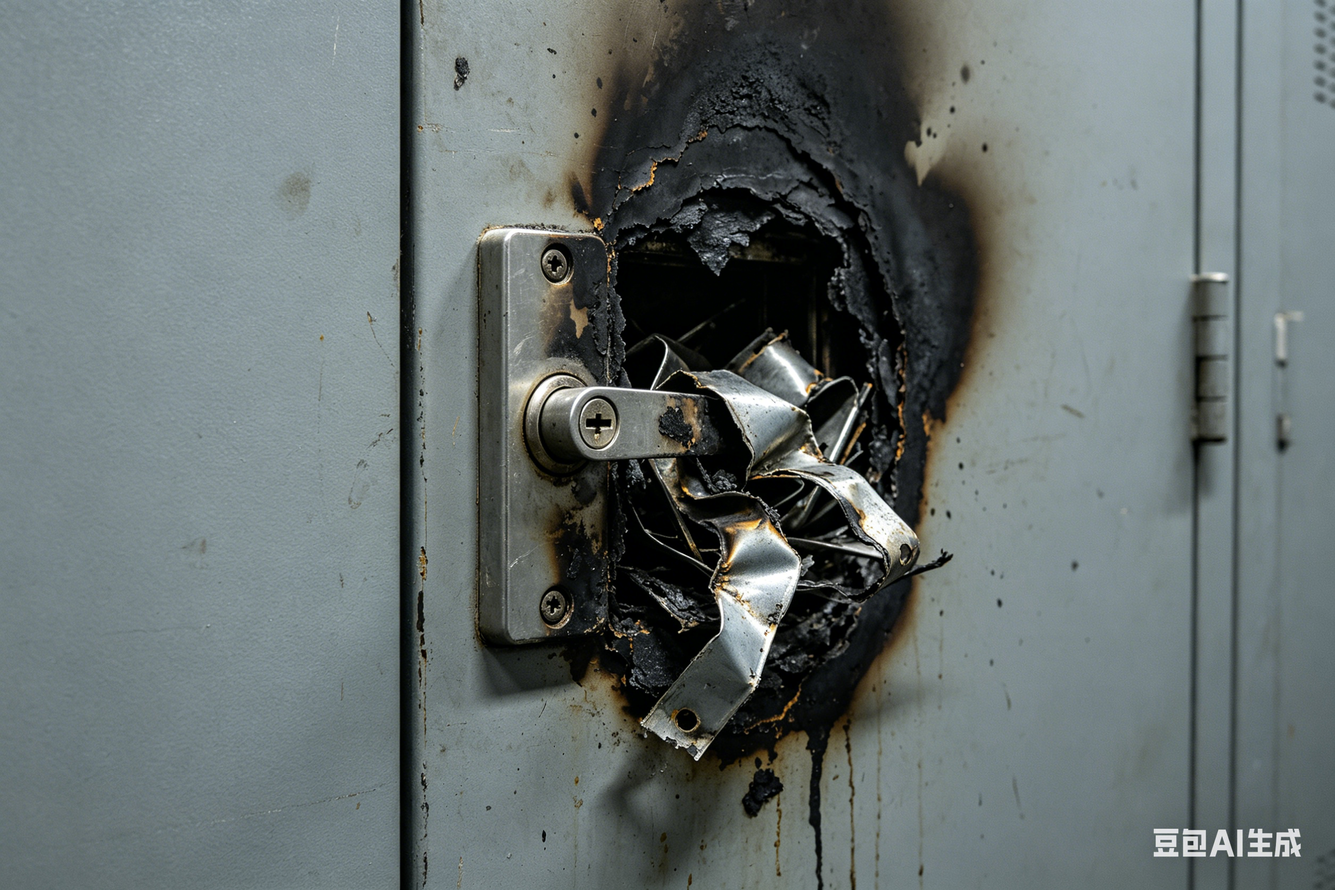BadLock: (535, 342, 913, 633)
